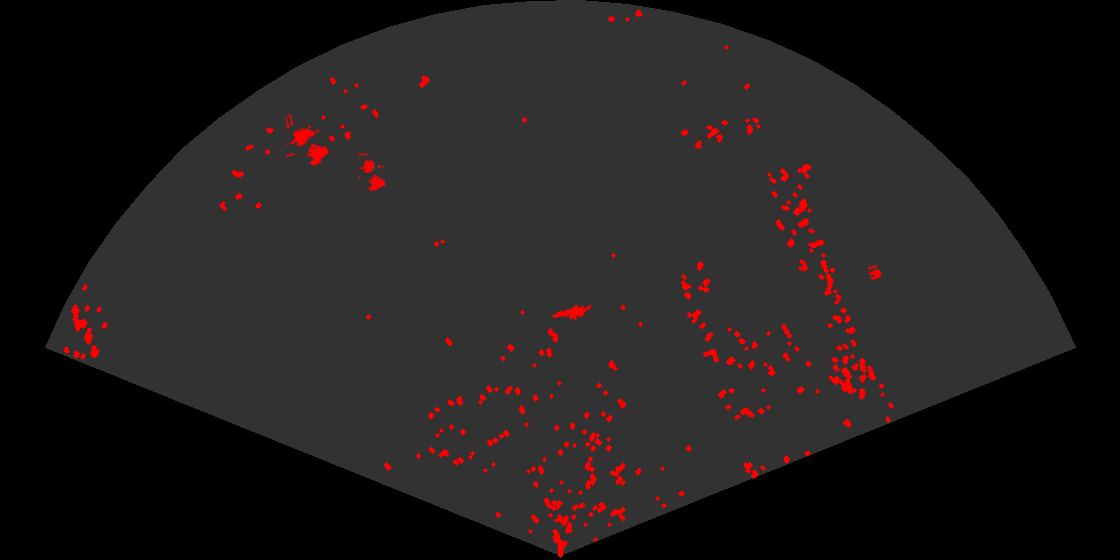ball: (866, 263, 883, 282)
cage: (286, 114, 331, 168), (358, 153, 387, 193)
frogman: (550, 303, 591, 323)
